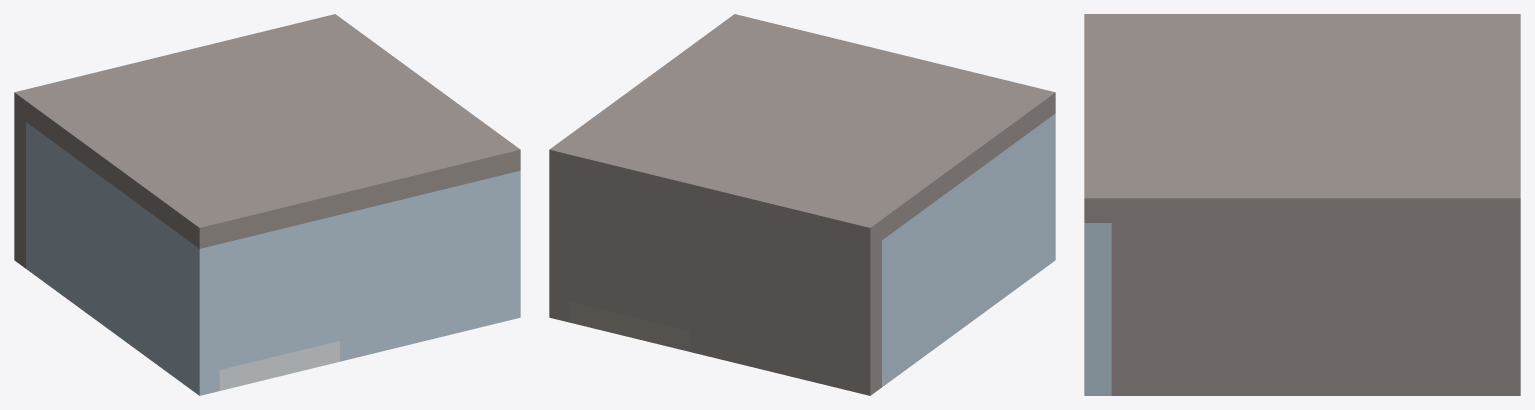
The model's file is ice-gate-mirror.glb.
3 renders of one model, left to right at view 1: azimuth 30°, elevation 25°; view 2: azimuth 150°, elevation 25°; view 3: azimuth 270°, elevation 25°, orthographic. The views are drawn at different scales.
Parts seen in each view (by area): view 1: rock_10, ice-rock_4, plug_ice_south, ice-rock_1, ice-rock_6, ice-rock_7, ice-rock_8, ice-rock_9, ice-rock_5, snow_5, rock_1; view 2: rock_10, rock_1, ice-rock_4, plug_north, ice-rock_1, rock_2, cave-floor_1; view 3: rock_10, rock_2, ice-rock_9.
Boxes of the visible parts, x1,y1,x2,y2 form: rock_10: [14, 14, 520, 248]; ice-rock_4: [95, 173, 219, 395]; plug_ice_south: [219, 215, 339, 369]; ice-rock_1: [26, 122, 95, 319]; ice-rock_6: [340, 205, 380, 361]; ice-rock_7: [400, 190, 440, 346]; ice-rock_8: [440, 180, 480, 336]; ice-rock_9: [480, 170, 520, 327]; ice-rock_5: [380, 200, 400, 351]; snow_5: [219, 341, 339, 390]; rock_1: [14, 113, 25, 268]; rock_10: [549, 14, 1055, 248]; rock_1: [689, 205, 881, 395]; ice-rock_4: [951, 113, 1055, 336]; plug_north: [569, 175, 689, 330]; ice-rock_1: [882, 190, 951, 386]; rock_2: [549, 170, 569, 322]; cave-floor_1: [569, 301, 689, 351]; rock_10: [1084, 14, 1520, 222]; rock_2: [1111, 223, 1520, 395]; ice-rock_9: [1084, 223, 1111, 395].
Size of the model in its own units: 8 by 4 by 8.
